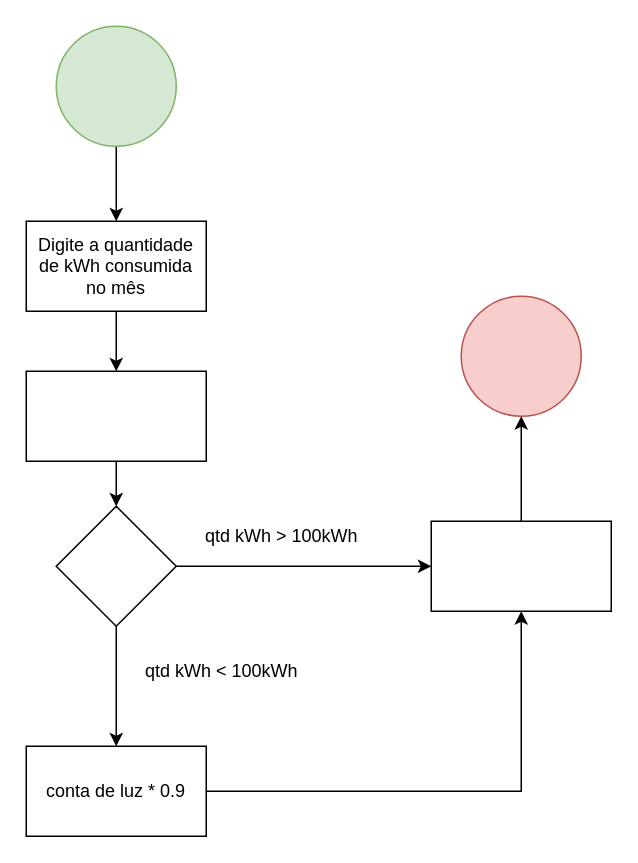
This 638x863 diagram has some shape labels left out. Here are the shapes that lost their labels. From the top down, the centre of each, then its label:
[115,415]: Calcular conta de luz
[520,565]: Exibir alert com o valor da conta a ser paga
